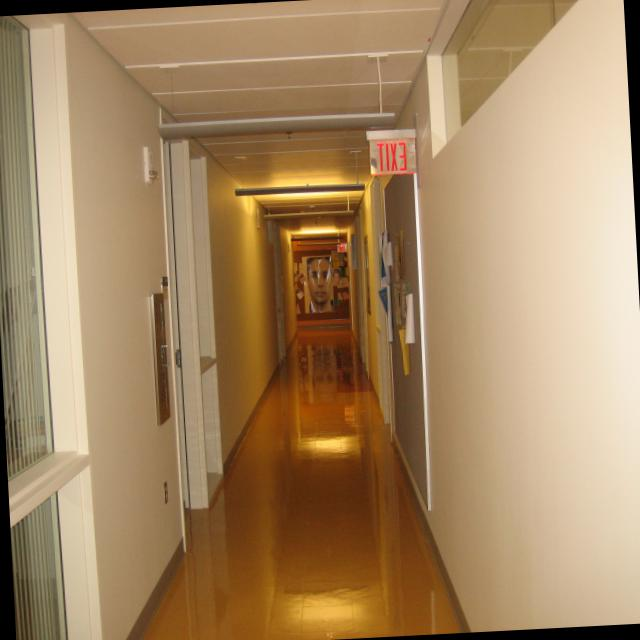ceiling beam: (68, 0, 448, 239)
exit sign: (369, 139, 416, 178), (337, 244, 348, 252)
floor -X: (141, 328, 463, 640)
outlet: (164, 480, 168, 504)
wall clock: (345, 0, 640, 633), (0, 16, 298, 640), (292, 237, 350, 329)
